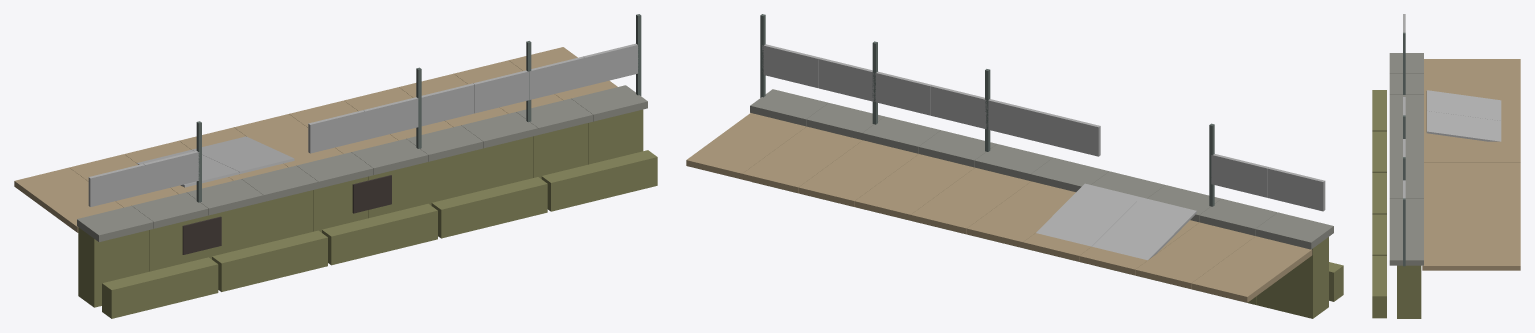
Rendered from SM_MuroRampa_v1_BajoValla_e1_Danado_LOD1.fbx.
3 renders of one model, left to right at view 1: azimuth 30°, elevation 25°; view 2: azimuth 150°, elevation 25°; view 3: azimuth 270°, elevation 25°, orthographic. The views are drawn at different scales.
Parts seen in each view (by area): view 1: SM_muro_rampa_v5_LOD1; view 2: SM_muro_rampa_v5_LOD1; view 3: SM_muro_rampa_v5_LOD1.
Part boxes in pixels (x1,y1,x2,y2): SM_muro_rampa_v5_LOD1: (14,14,657,318); SM_muro_rampa_v5_LOD1: (686,14,1343,318); SM_muro_rampa_v5_LOD1: (1372,14,1520,318).
Bounding box in the file's own units: 10.03 × 2.7 × 3.02.
